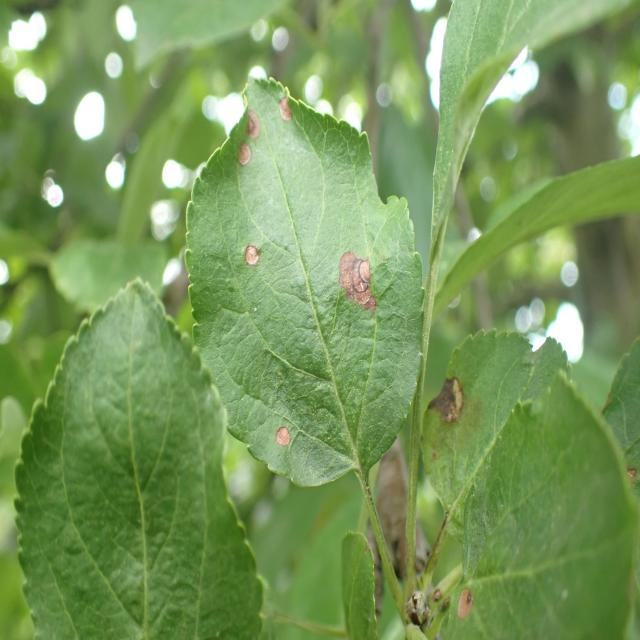Black Rot: (335, 250, 379, 332), (426, 367, 468, 434), (235, 227, 261, 282), (274, 87, 301, 134), (228, 140, 257, 183), (268, 413, 297, 453), (455, 581, 480, 624), (242, 94, 262, 142), (248, 303, 263, 314)
scab: (415, 348, 493, 482)
